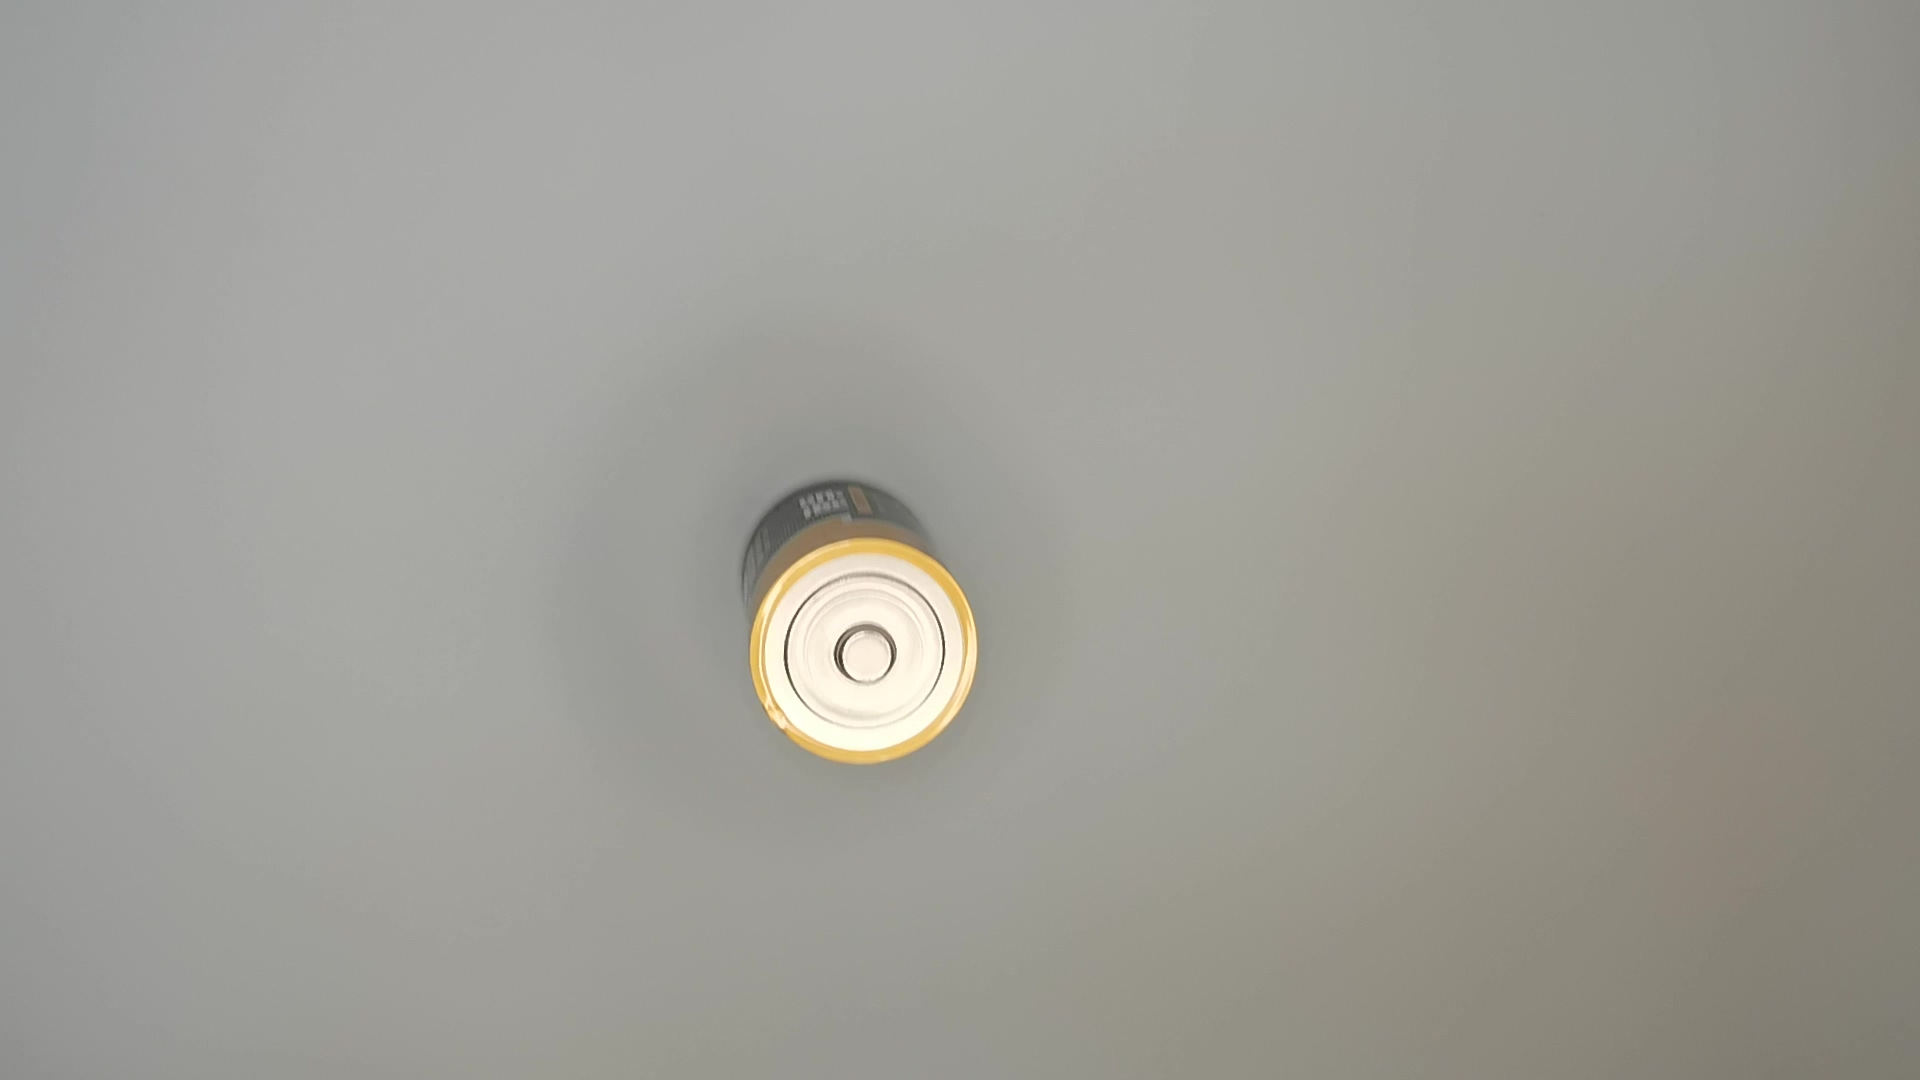battery: (731, 476, 985, 775)
